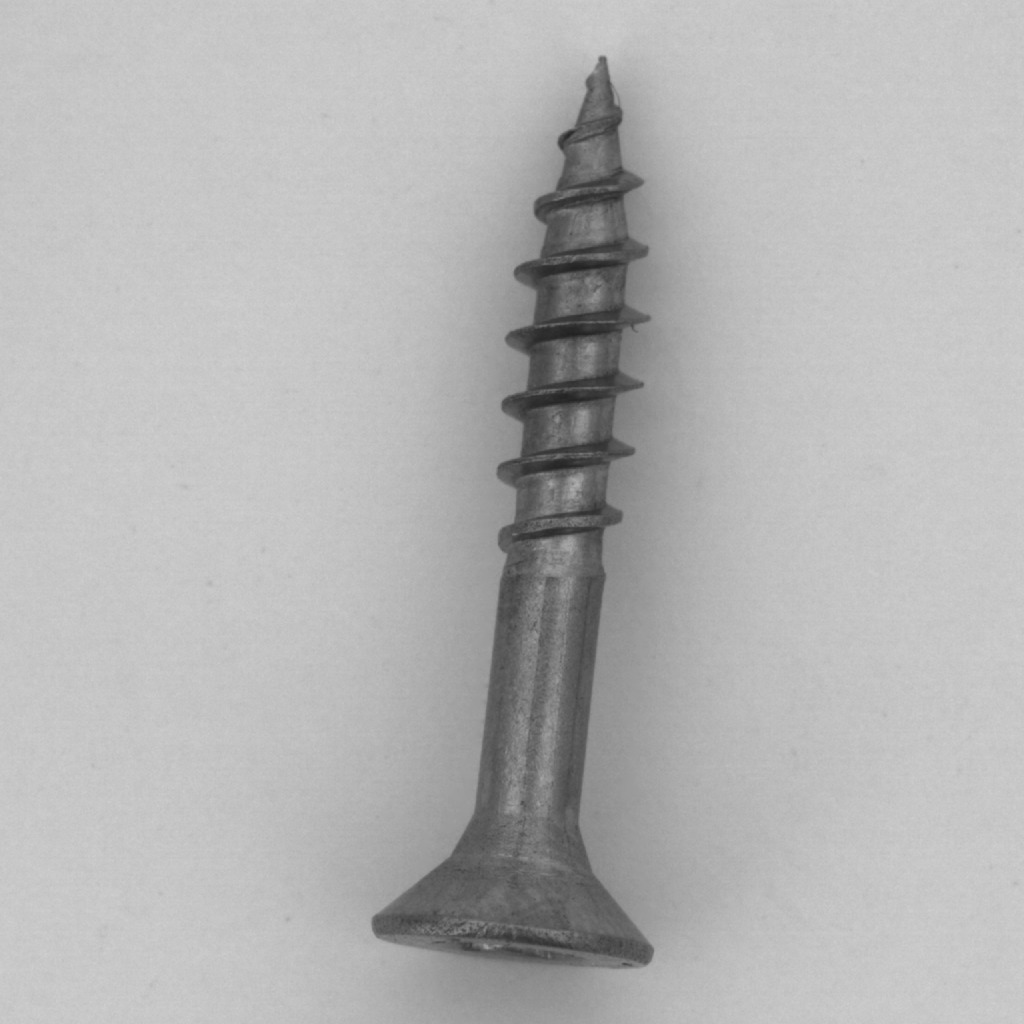good: (345, 32, 690, 990)
